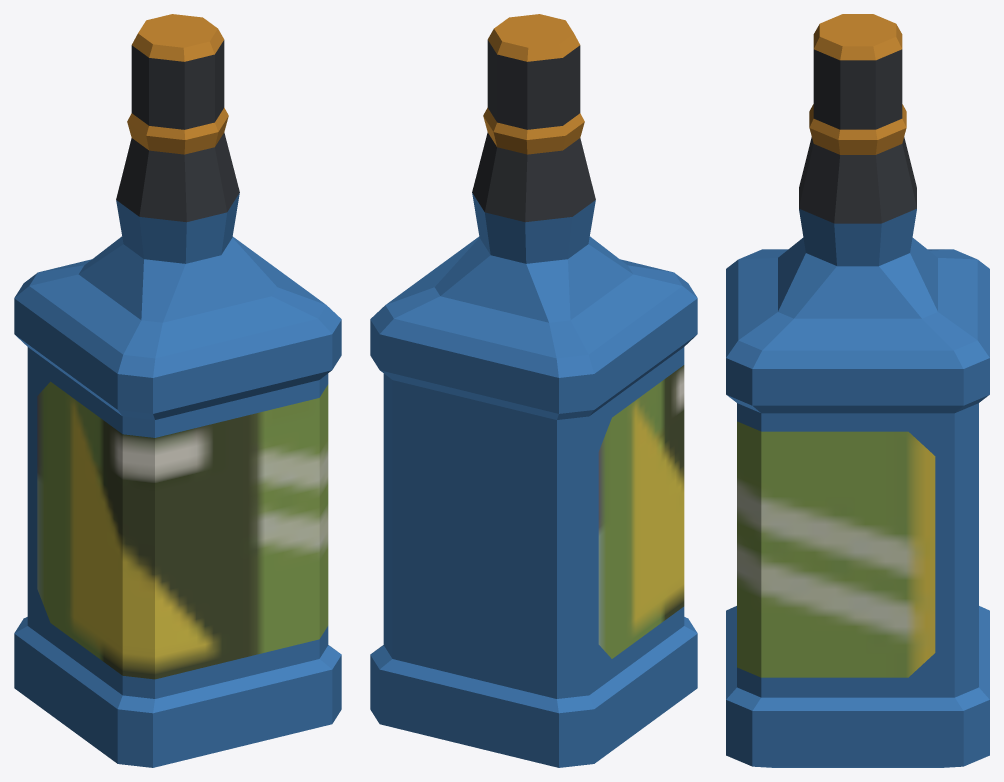
The model's file is SM_Prop_Bottle_Large_03.obj.
The picture shows the model from 3 angles, left to right: view 1: azimuth 30°, elevation 25°; view 2: azimuth 150°, elevation 25°; view 3: azimuth 270°, elevation 25°; orthographic projection.
Parts seen in each view (by area): view 1: SM_Prop_Bottle_Large_03_0; view 2: SM_Prop_Bottle_Large_03_0; view 3: SM_Prop_Bottle_Large_03_0.
Boxes of the visible parts, x1=… form: SM_Prop_Bottle_Large_03_0: x1=14, y1=14, x2=341, y2=767; SM_Prop_Bottle_Large_03_0: x1=370, y1=14, x2=697, y2=767; SM_Prop_Bottle_Large_03_0: x1=726, y1=14, x2=989, y2=767.
Size of the model in its own units: 0.1475 by 0.4281 by 0.1475.
Materials: 1 (1 with a texture image).
